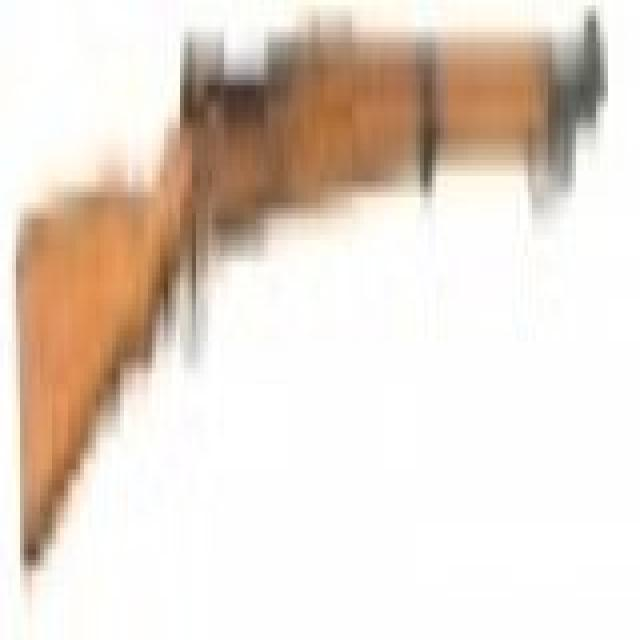Gun: (0, 14, 613, 560)
